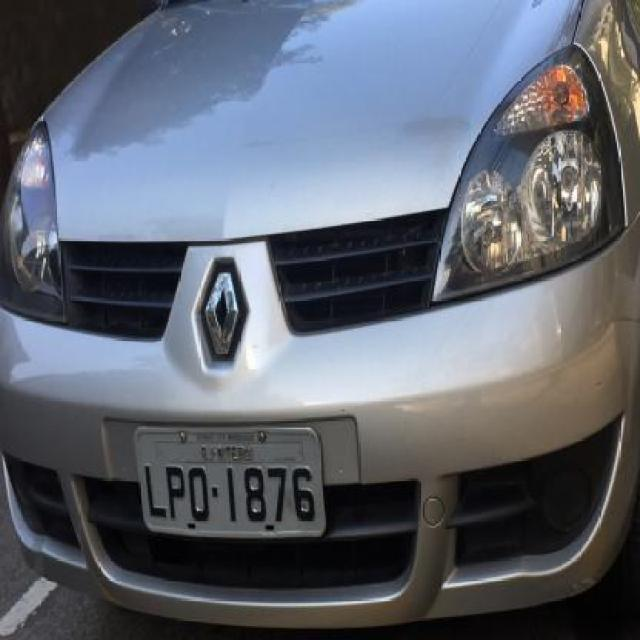old_plate: (128, 420, 338, 545)
